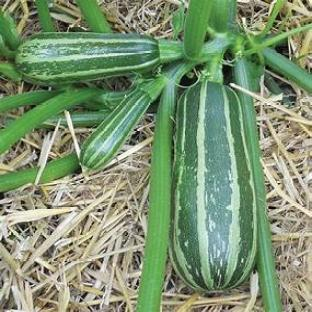Zucchini: (170, 80, 257, 290), (16, 33, 182, 84), (80, 76, 166, 169)
